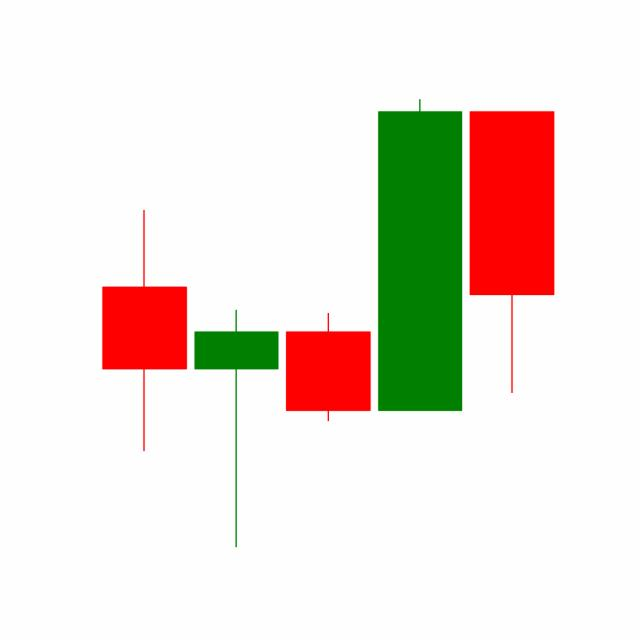Marubozu: (373, 95, 467, 414)
